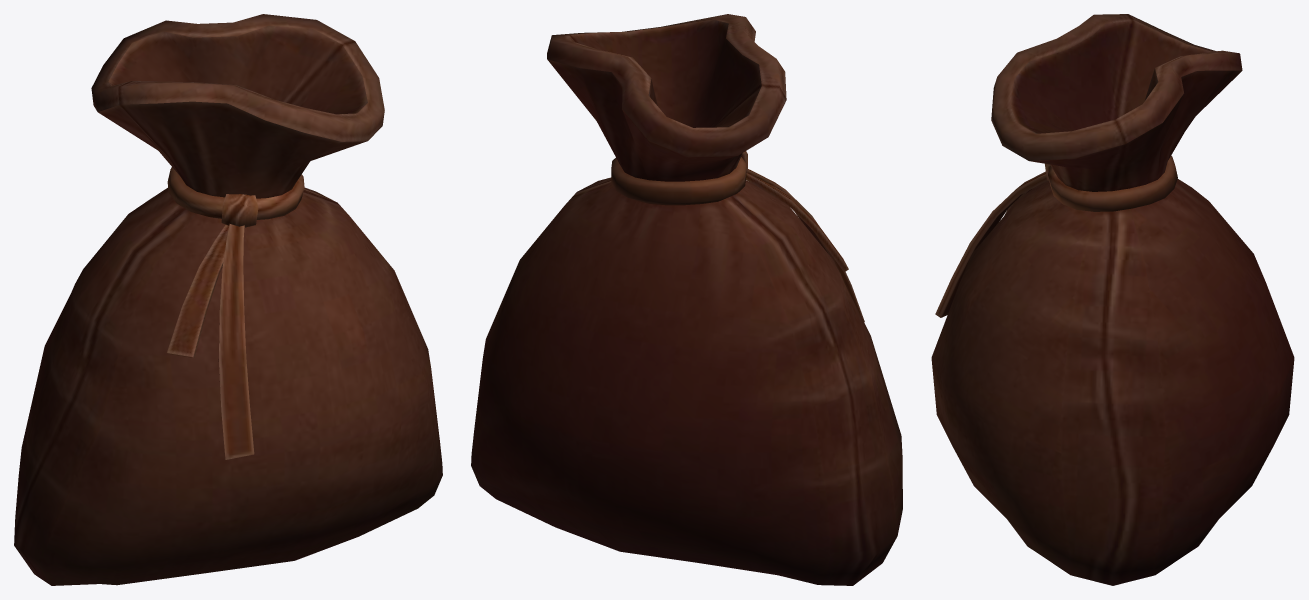
File: coin-bag.glb
3 renders of one model, left to right at view 1: azimuth 30°, elevation 25°; view 2: azimuth 150°, elevation 25°; view 3: azimuth 270°, elevation 25°, orthographic. The views are drawn at different scales.
Size of the model in its own units: 1 by 1.17 by 0.8269.
1 material, 1 textured.
